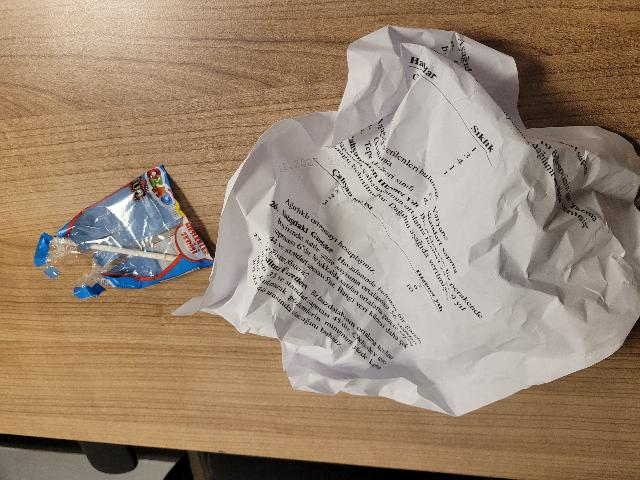Kagit: (221, 10, 640, 428)
Plastik: (17, 170, 217, 327)
